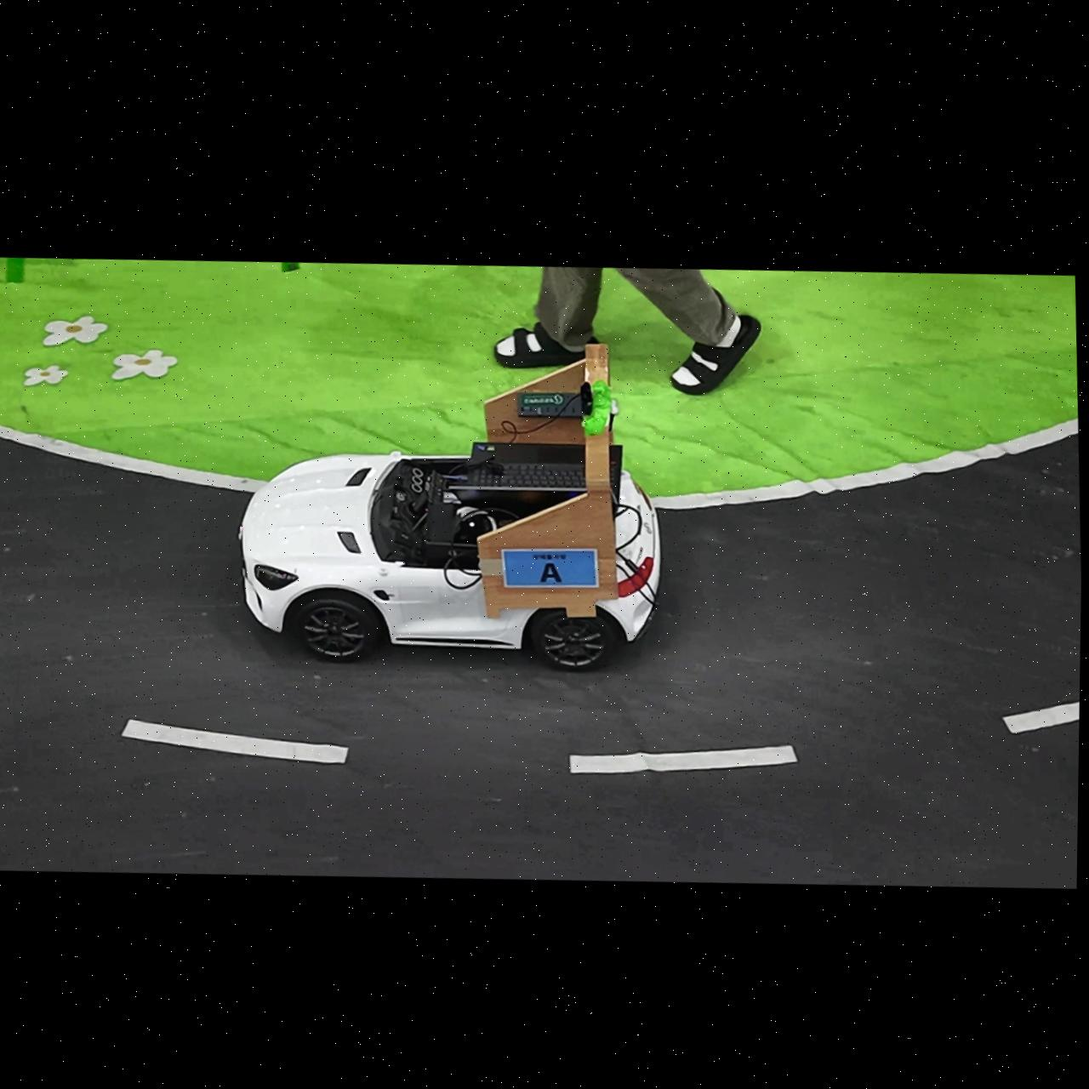broken_line: (121, 718, 348, 763), (570, 746, 798, 772), (1002, 701, 1079, 733)
